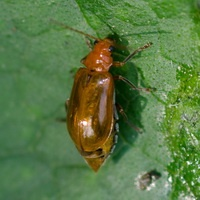insect: (51, 19, 151, 170)
